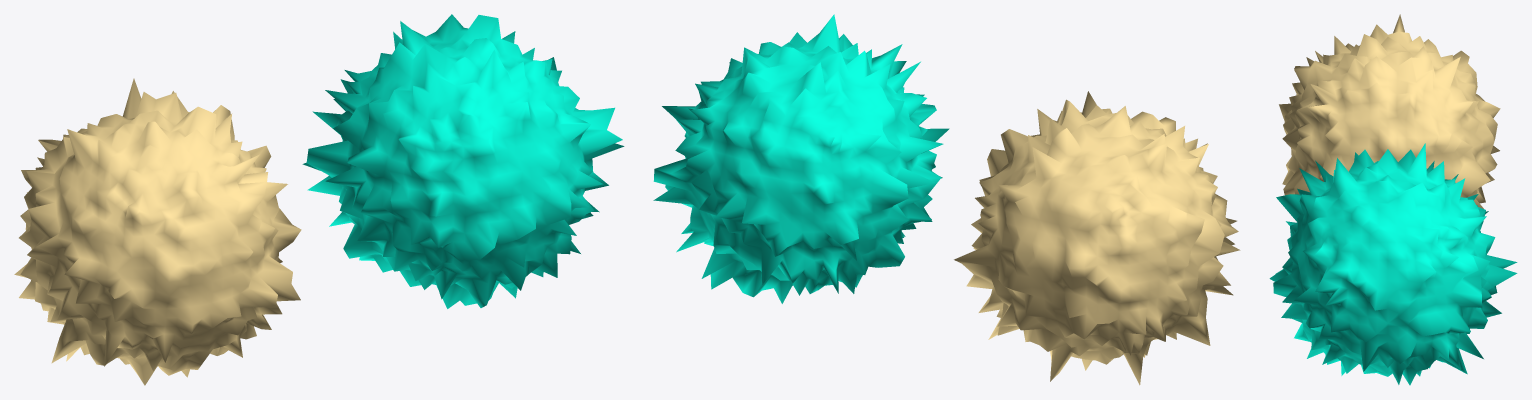
Rendered from 2-blobs.gltf.
The picture shows the model from 3 angles, left to right: view 1: azimuth 30°, elevation 25°; view 2: azimuth 150°, elevation 25°; view 3: azimuth 270°, elevation 25°; orthographic projection. The views are drawn at different scales.
Parts seen in each view (by area): view 1: Cube.001, Cube; view 2: Cube.001, Cube; view 3: Cube.001, Cube.
Boxes of the visible parts, x1,y1,x2,y2 form: Cube.001: (302, 14, 624, 308); Cube: (14, 78, 301, 385); Cube.001: (653, 14, 949, 303); Cube: (954, 91, 1240, 385); Cube.001: (1269, 143, 1517, 385); Cube: (1279, 14, 1500, 211).
Bounding box in the file's own units: 75.98 × 33.64 × 35.02.
